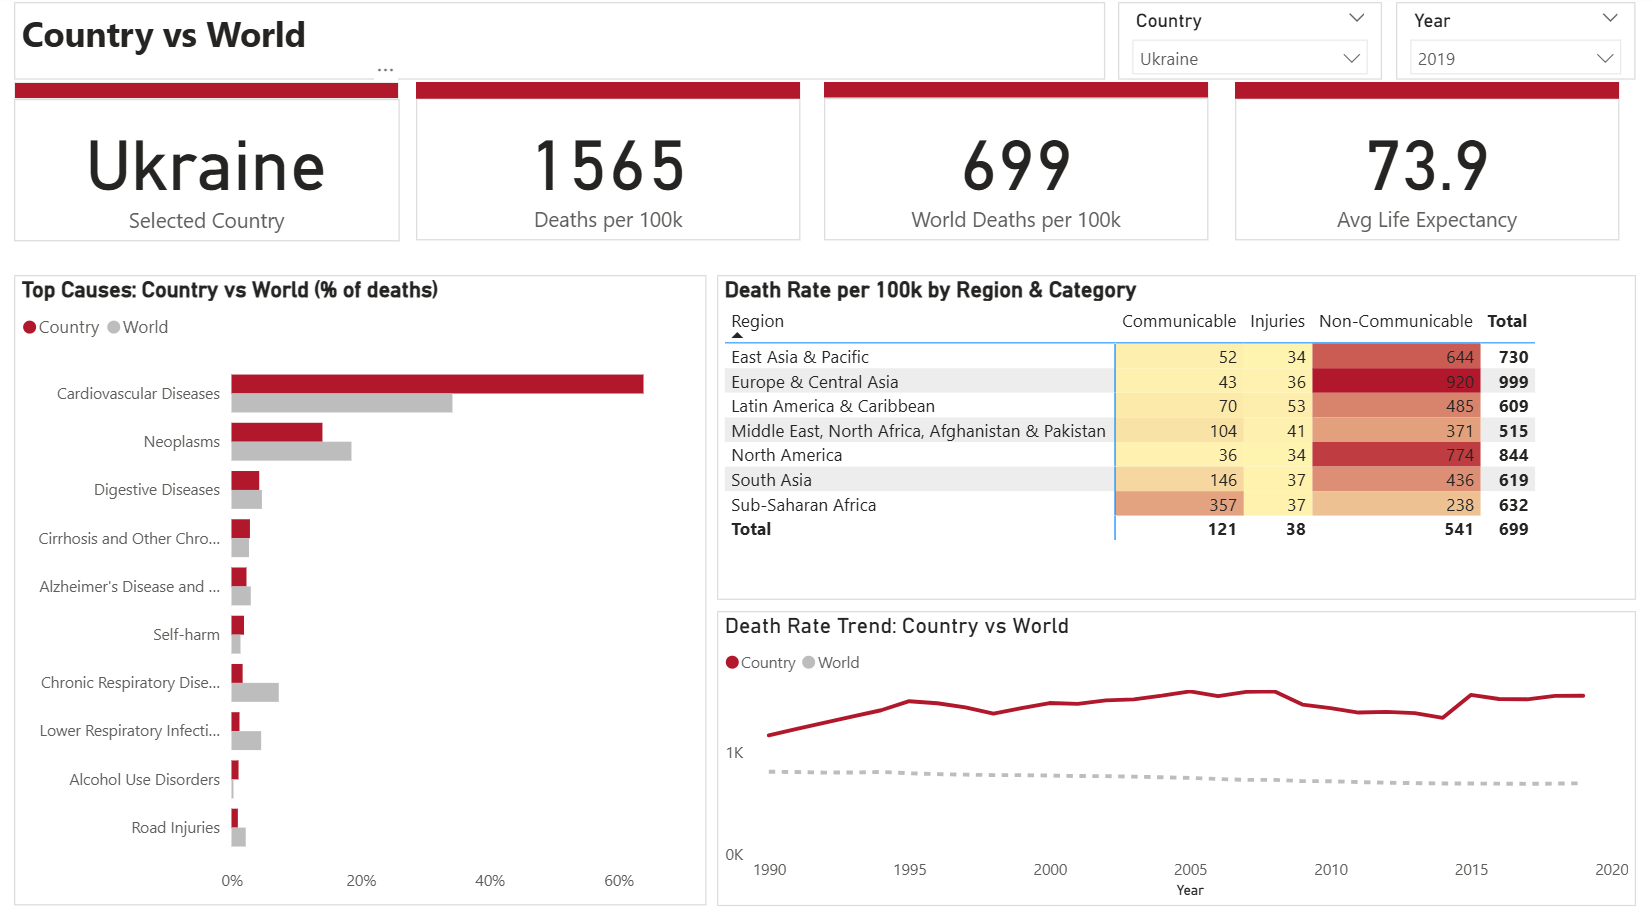

This screenshot's page, from the dashboard's own definition file:
{"tool":"powerbi","page":{"name":"Country Comparison","canvas":[1280,720],"ordinal":2},"visuals":[{"type":"slicer","fields":{"Values":["Dim_Year.Year"]},"box":[1081.6,4.3,185.4,59.5],"z":0},{"type":"slicer","fields":{"Values":["Dim_Country.Country"]},"box":[866.8,4.3,204.4,59.5],"z":1000},{"type":"card","fields":{"Values":["_Measures.Selected Country"]},"box":[13.8,79.4,297.6,109.5],"z":2000},{"type":"card","fields":{"Values":["_Measures.Deaths per 100k"]},"box":[324.3,78.5,296.7,110.4],"z":3000},{"type":"card","fields":{"Values":["_Measures.World Deaths per 100k"]},"box":[640,78.5,296.7,110.4],"z":4000},{"type":"card","fields":{"Values":["_Measures.Avg Life Expectancy"]},"box":[957.4,78.5,296.7,110.4],"z":5000},{"type":"clusteredBarChart","title":"Top Causes: Country vs World (% of deaths)","fields":{"Category":["Dim_Cause.Cause"],"Y":["_Measures.% of Deaths","_Measures.World % of Deaths"]},"box":[13.8,215.6,534.8,487.3],"z":6000},{"type":"lineChart","title":"Death Rate Trend: Country vs World","fields":{"Category":["Dim_Year.Year"],"Y":["_Measures.Deaths per 100k","_Measures.World Deaths per 100k"]},"box":[557.2,475.3,709.9,227.7],"z":7000},{"type":"pivotTable","title":"Death Rate per 100k by Region & Category","fields":{"Rows":["Dim_Country.Region"],"Columns":["Dim_Cause.Category_Short"],"Values":["_Measures.Deaths per 100k"]},"box":[557.2,215.6,709.9,251],"z":8000},{"type":"textbox","box":[13.8,4.3,842.7,59.5],"z":9000},{"type":"shape","box":[14.1,66.7,296.8,12.6],"z":10000},{"type":"shape","box":[324.3,66.4,296.7,12.9],"z":11000},{"type":"shape","box":[640,66.4,296.7,12.1],"z":12000},{"type":"shape","box":[957.4,66.4,296.7,12.9],"z":13000}]}

Visuals, with their boxes in screenshot pixels (x1, y1, x2, y2), scaled from the page's 1280x720 canvas onto the 1652x920 screenshot:
slicer - Dim_Year.Year: <box>1396,5,1635,82</box>
slicer - Dim_Country.Country: <box>1119,5,1383,82</box>
card - _Measures.Selected Country: <box>18,101,402,241</box>
card - _Measures.Deaths per 100k: <box>419,100,801,241</box>
card - _Measures.World Deaths per 100k: <box>826,100,1209,241</box>
card - _Measures.Avg Life Expectancy: <box>1236,100,1619,241</box>
"Top Causes: Country vs World (% of deaths)" clusteredBarChart: <box>18,275,708,898</box>
"Death Rate Trend: Country vs World" lineChart: <box>719,607,1635,898</box>
"Death Rate per 100k by Region & Category" pivotTable: <box>719,275,1635,596</box>
textbox: <box>18,5,1105,82</box>
shape: <box>18,85,401,101</box>
shape: <box>419,85,801,101</box>
shape: <box>826,85,1209,100</box>
shape: <box>1236,85,1619,101</box>
